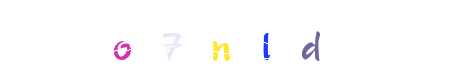7: (180, 0, 260, 80)
D: (270, 0, 350, 80)
L: (226, 0, 306, 80)
N: (192, 0, 272, 80)
O: (82, 0, 162, 80)
